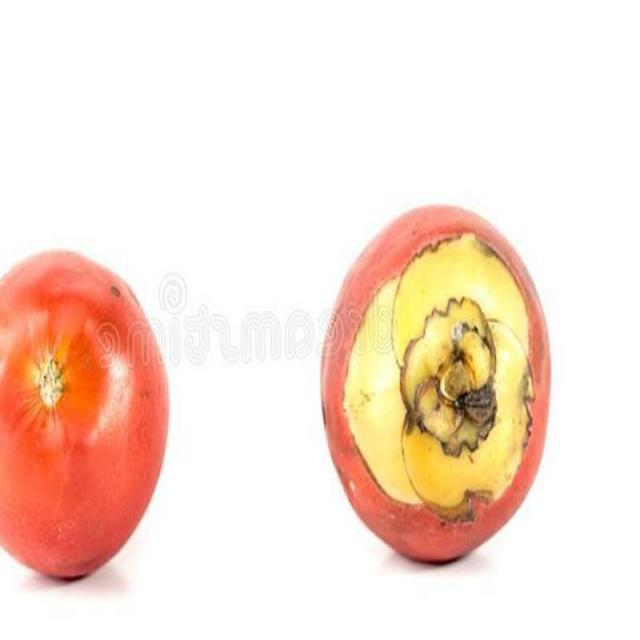good: (324, 214, 550, 567), (0, 250, 171, 585)
